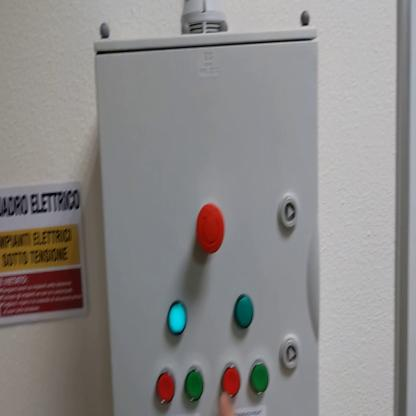hand: (221, 390, 235, 413)
left green button: (186, 369, 204, 401)
left red button: (157, 370, 177, 404)
right green button: (253, 359, 270, 397)
right red button: (222, 364, 242, 399)
